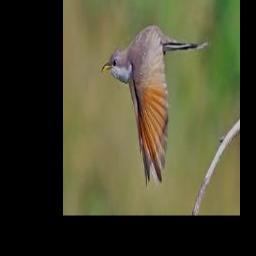Cuckoo: (101, 24, 211, 187)
